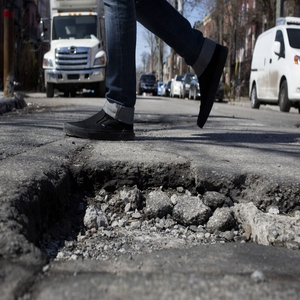pothole: (9, 161, 300, 261)
